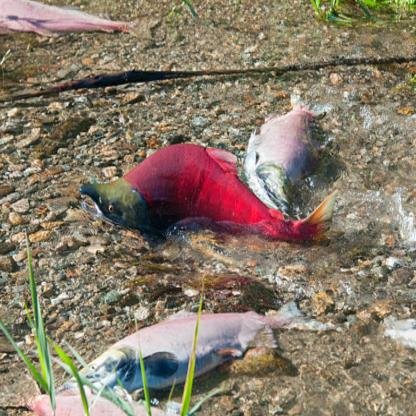sockeye: (80, 136, 330, 250)
